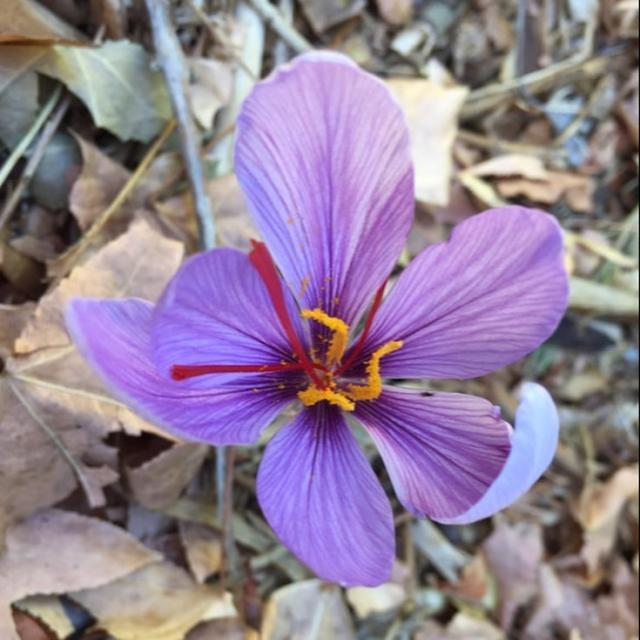Flower: (194, 168, 507, 533)
stigma: (242, 236, 300, 372), (157, 354, 312, 394), (346, 273, 390, 362)
